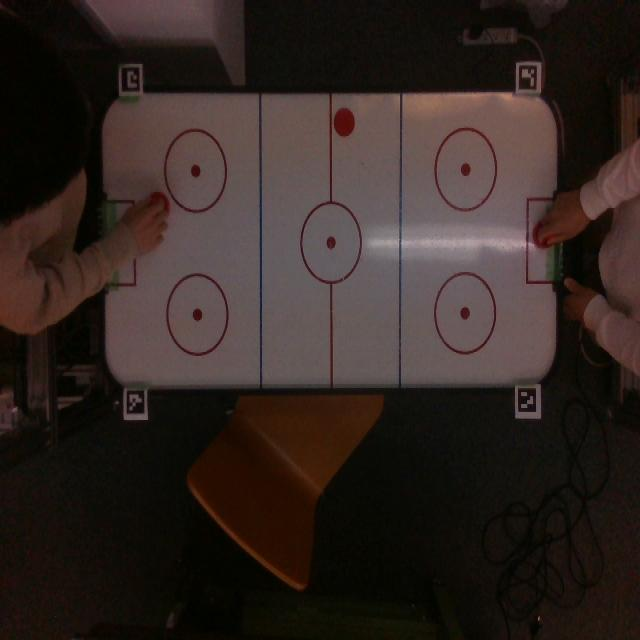puck: (334, 108, 355, 137)
